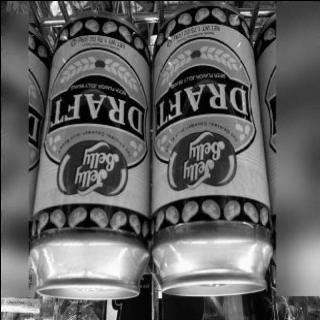alumunium_can: (150, 1, 274, 298), (28, 9, 152, 300)
